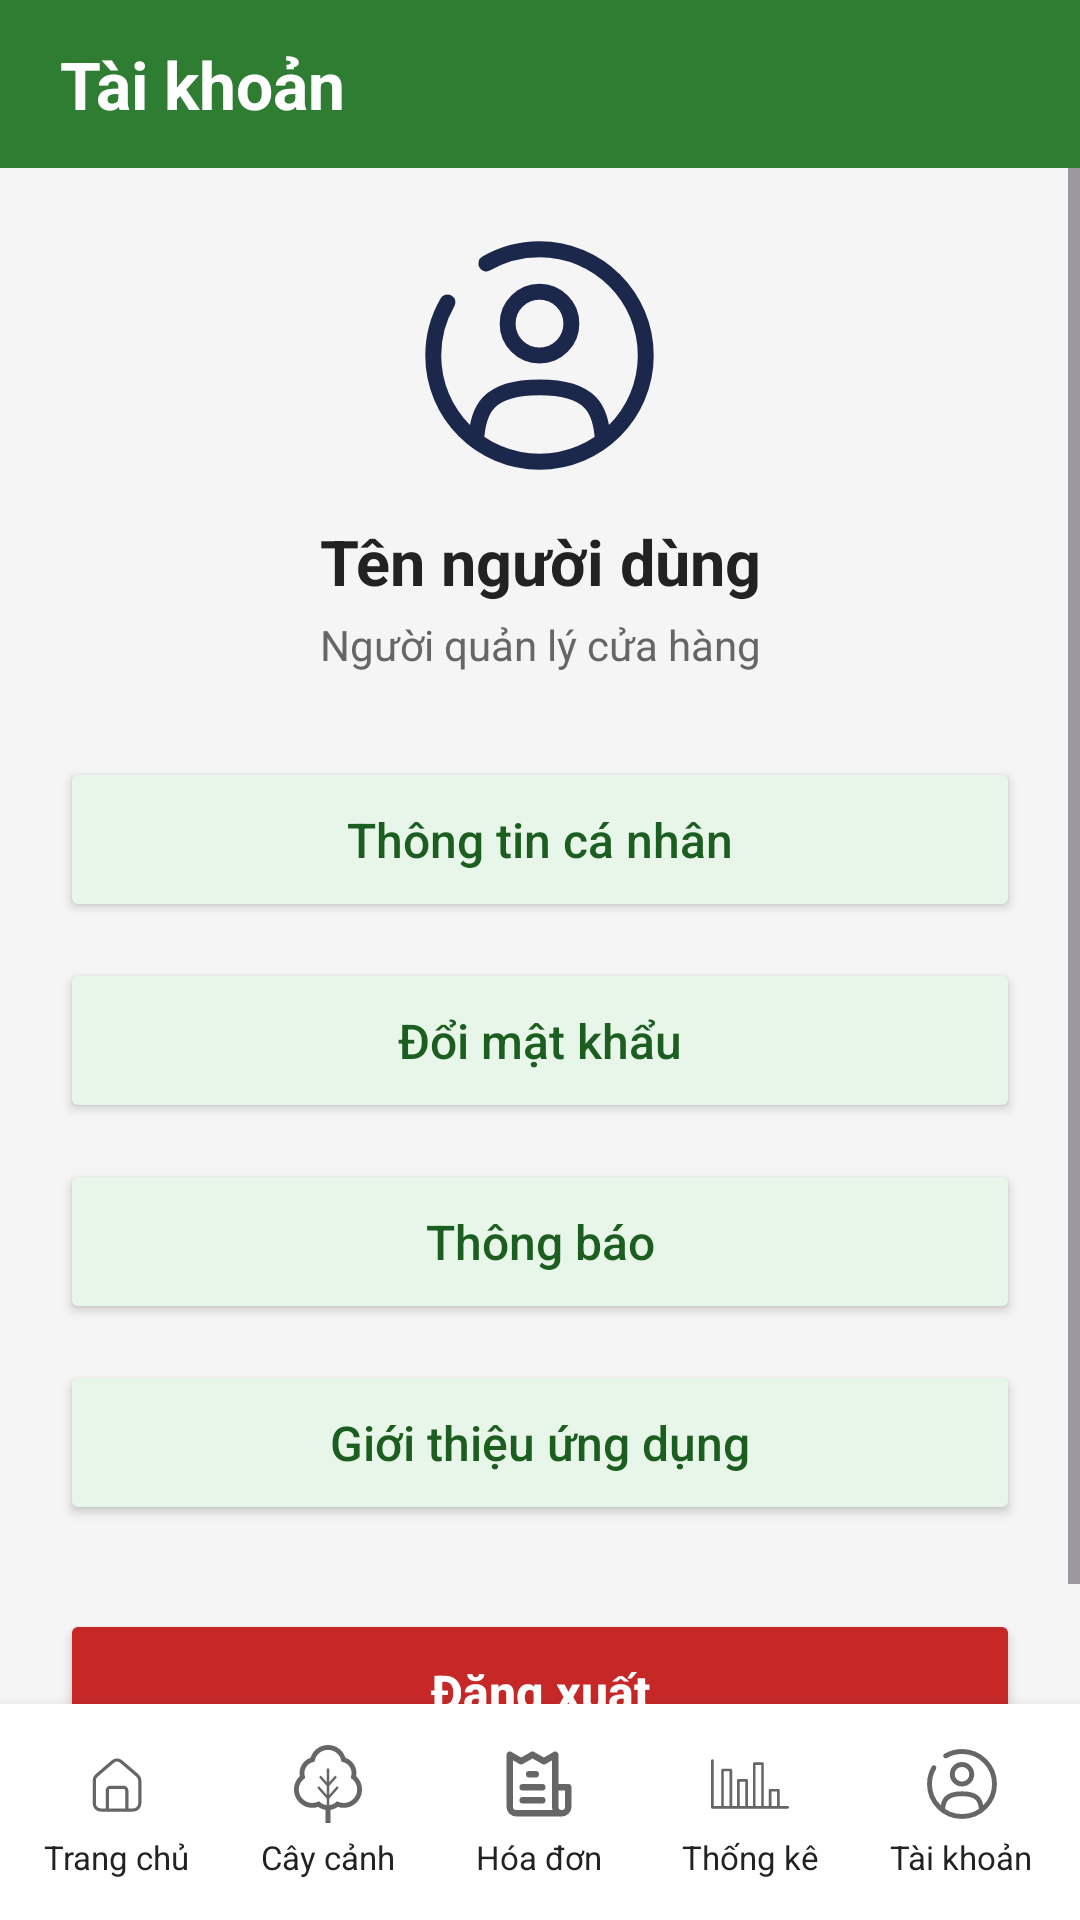

Screen size 1080 × 1920. Icon name, then its center in pixels as (x=x, y=y):
Ảnh đại diện: (x=539, y=355)
